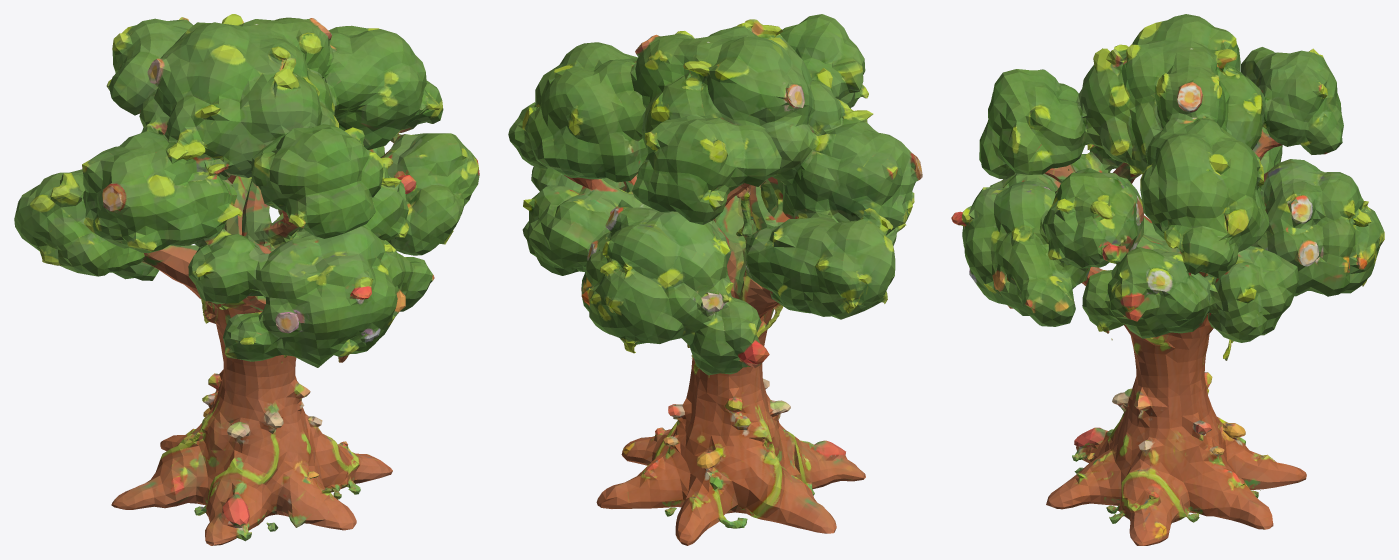
The model's file is world_tree.fbx.
The picture shows the model from 3 angles, left to right: view 1: azimuth 30°, elevation 25°; view 2: azimuth 150°, elevation 25°; view 3: azimuth 270°, elevation 25°; orthographic projection. The views are drawn at different scales.
Parts seen in each view (by area): view 1: world_tree; view 2: world_tree; view 3: world_tree.
Boxes of the visible parts, bbox=[...] form: world_tree: bbox=[14, 14, 479, 545]; world_tree: bbox=[508, 14, 922, 545]; world_tree: bbox=[951, 14, 1384, 545].
Bounding box in the file's own units: 167 × 184 × 159.
